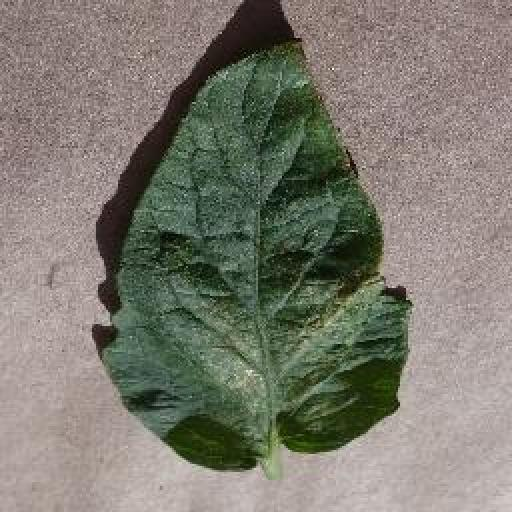Spider Mites: (105, 37, 411, 475)
